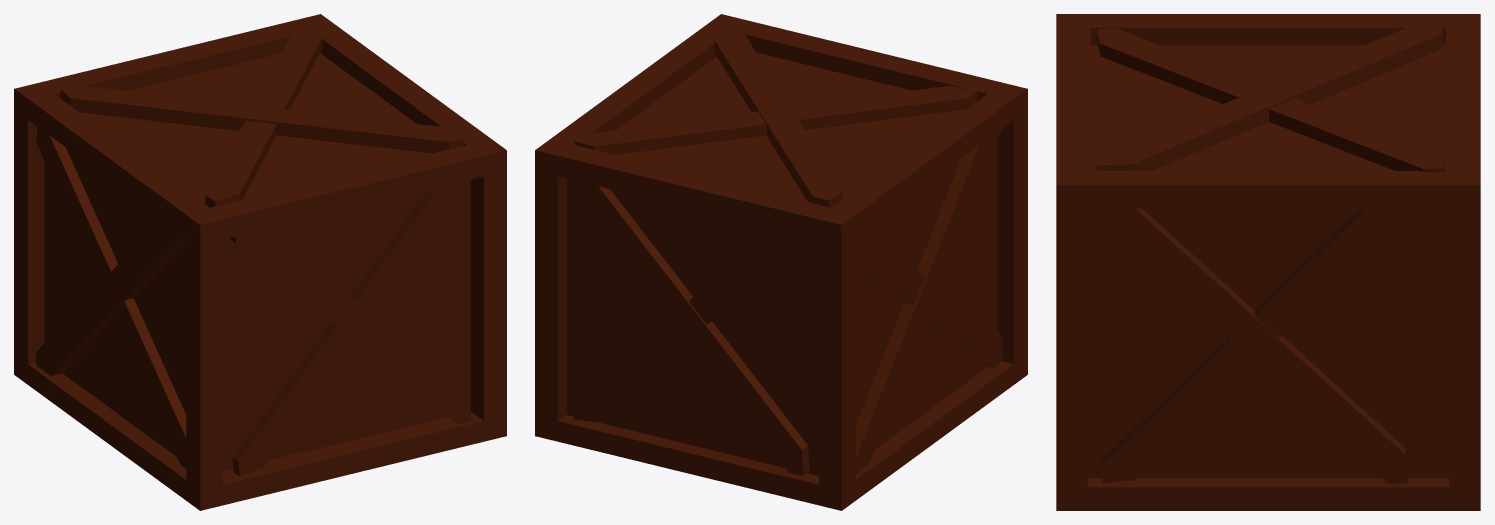
3 views of the same model, side by side, from view 1: azimuth 30°, elevation 25°; view 2: azimuth 150°, elevation 25°; view 3: azimuth 270°, elevation 25° (orthographic). The views are drawn at different scales.
Parts seen in each view (by area): view 1: Box002; view 2: Box002; view 3: Box002.
Part boxes in pixels (x1,y1,x2,y2): Box002: (14, 14, 506, 510); Box002: (535, 14, 1027, 510); Box002: (1056, 14, 1480, 510).
Bounding box in the file's own units: 25.93 × 23.96 × 27.25.
